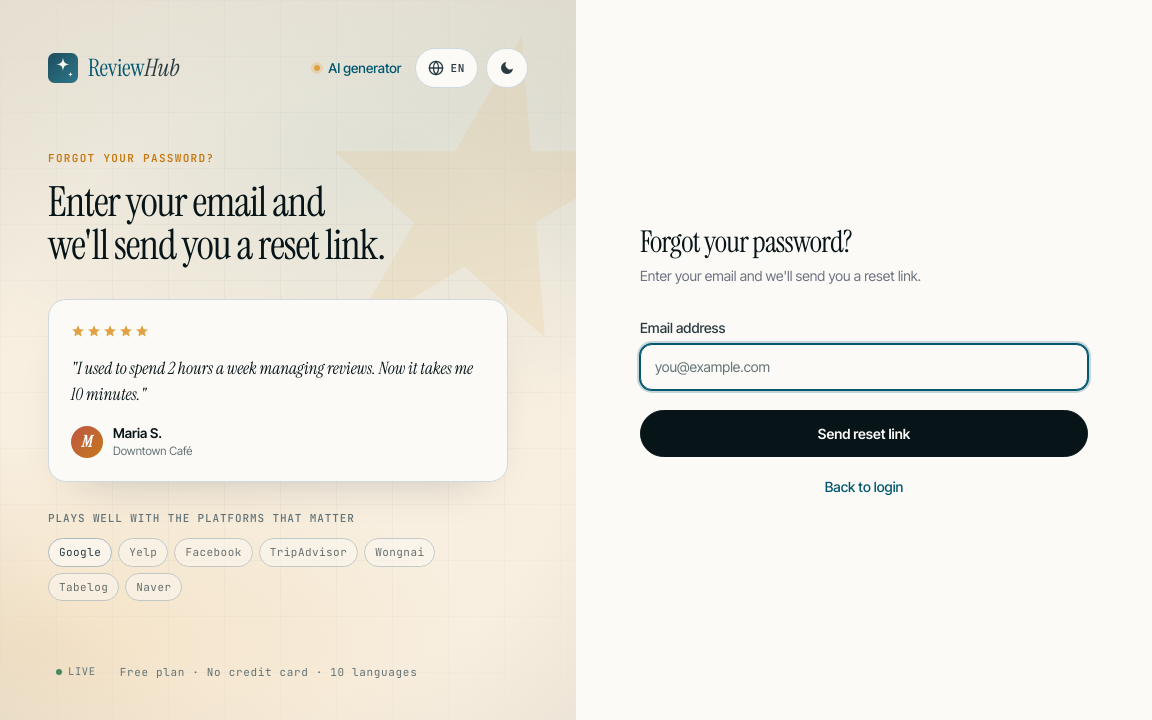
Test case: ForgotPassword page › surfaces rate-limit / network errors in a visible alert
Type "u@example.com" into the field labelled "Email address" at [864, 366], box [640,344,1088,390]
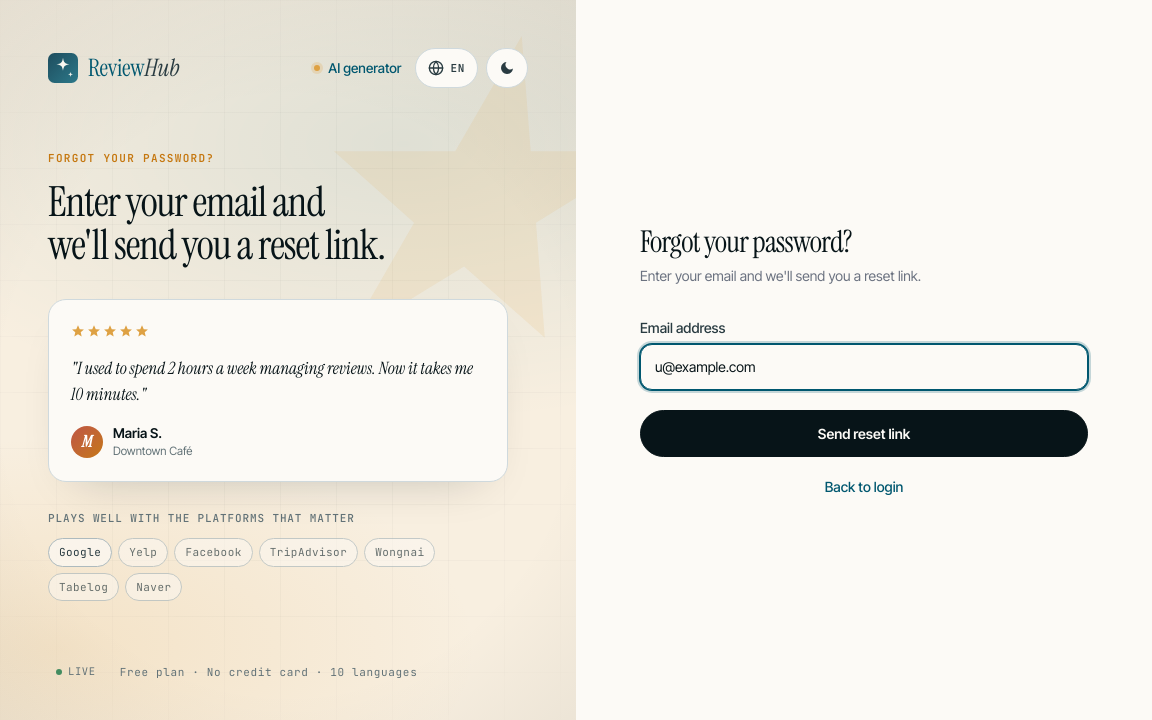
Click the button "Send reset link" at [864, 433], box [640,410,1088,456]
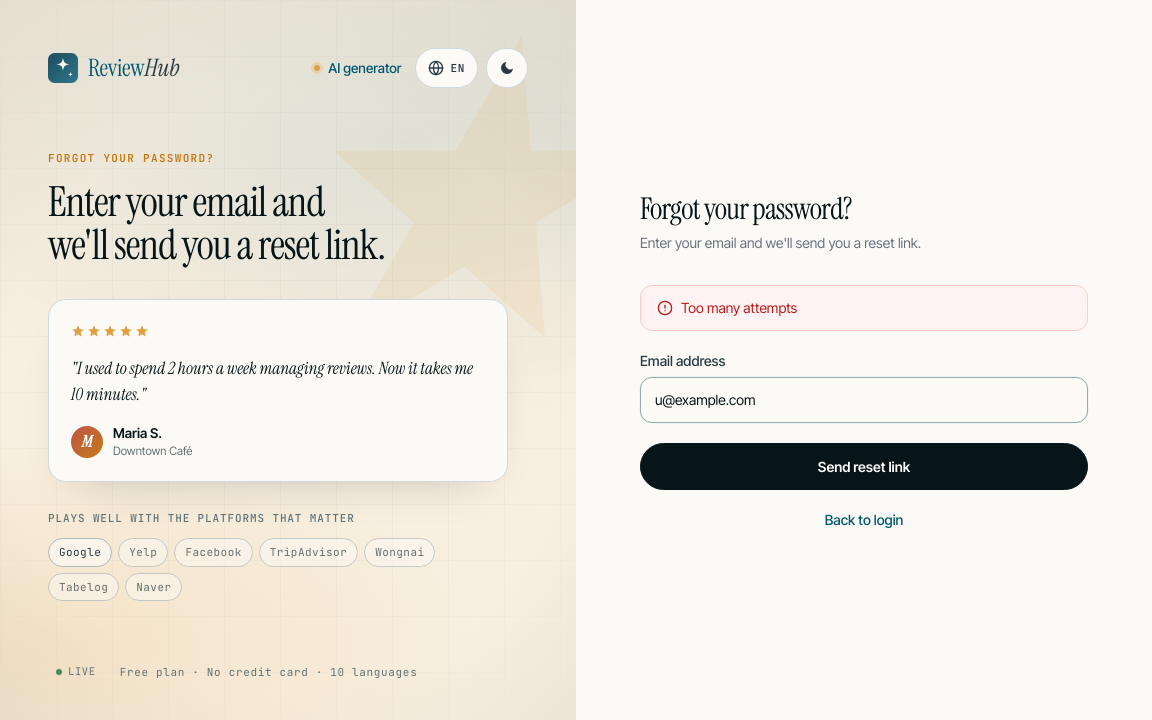
Now the message reads "Too many attempts", box [681,298,797,316]
